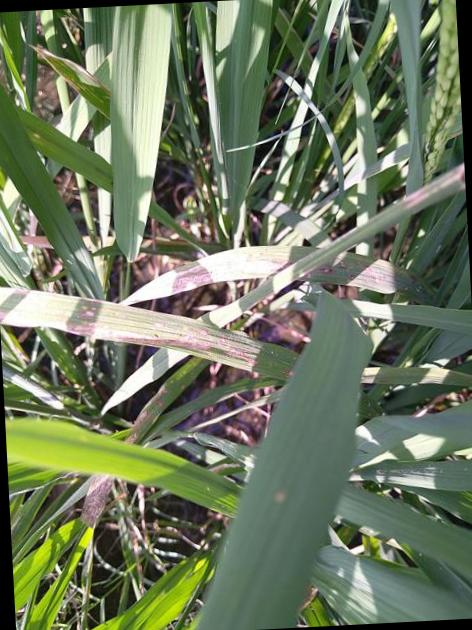Leaf Streak: (0, 286, 299, 382), (119, 246, 292, 306), (121, 356, 202, 445), (307, 252, 430, 304), (30, 45, 111, 118), (82, 476, 112, 529)
